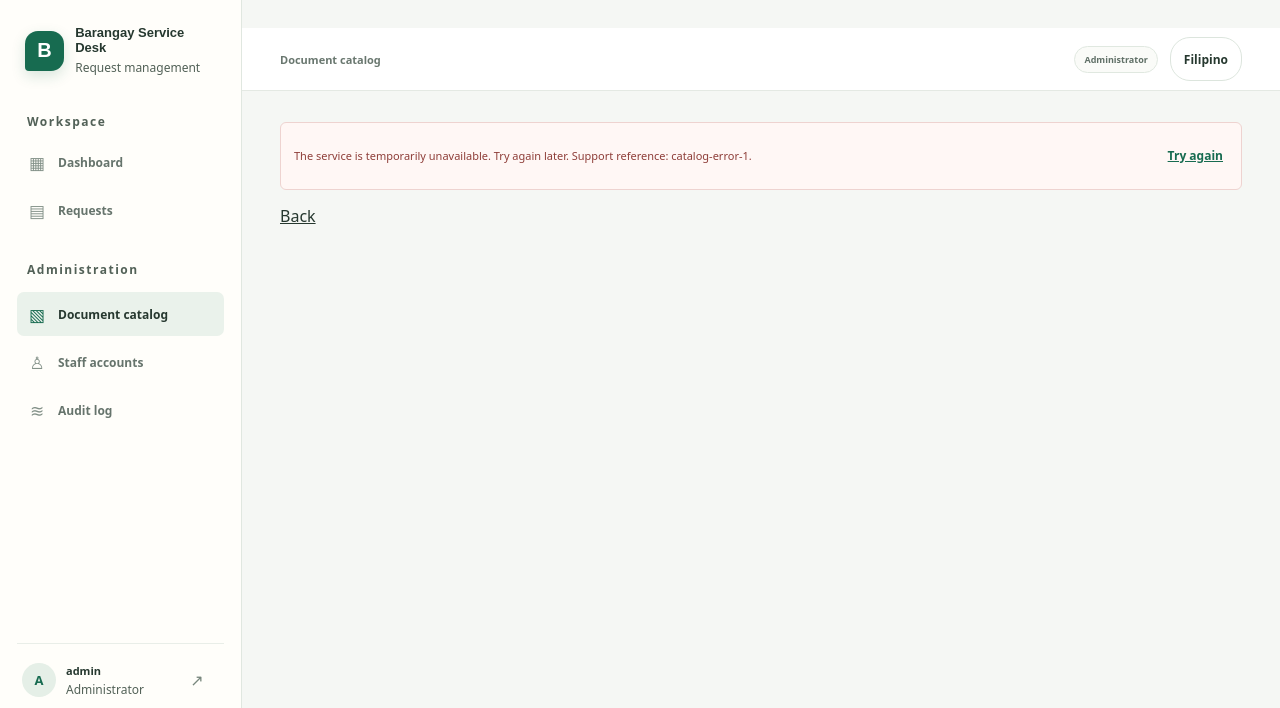
it: staff catalog editor › shows a catalog load error and retries the request
Expected: the message is shown, left=280, top=122, right=1242, bottom=190
Click the button "Try again" at (1195, 156), box left=1163, top=134, right=1228, bottom=178
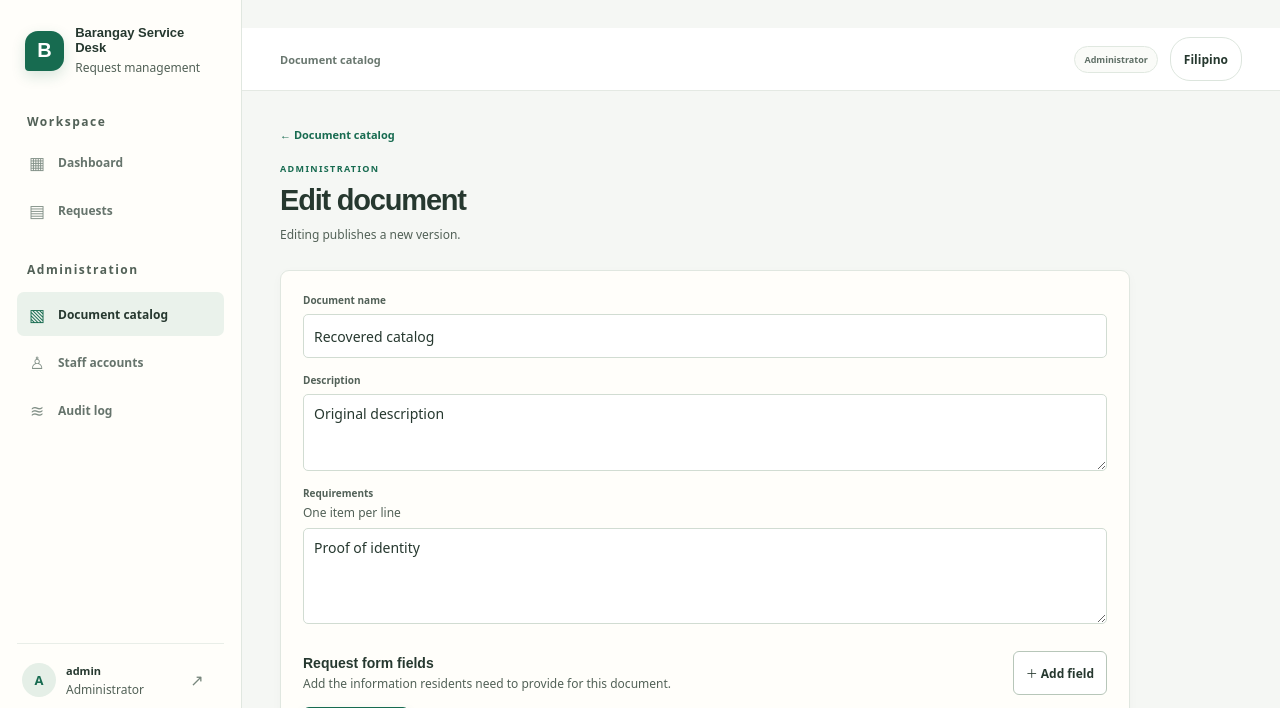
Now the field showing "Recovered catalog" is shown, box left=303, top=314, right=1107, bottom=358
